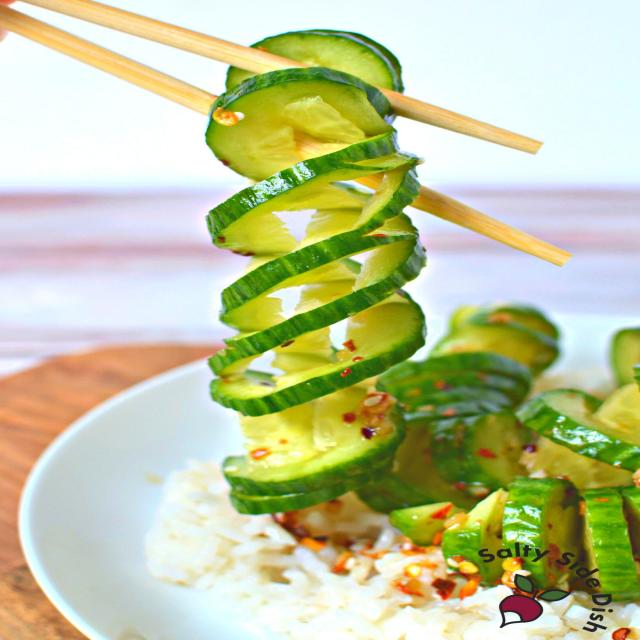Pickle: (206, 66, 426, 513), (210, 292, 426, 416), (223, 384, 405, 512), (206, 68, 394, 180), (221, 231, 416, 319), (379, 352, 531, 422), (518, 389, 640, 471), (251, 30, 403, 92), (502, 478, 585, 590), (352, 239, 426, 291), (225, 66, 255, 88), (343, 339, 356, 351)
